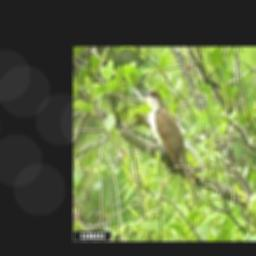Cuckoo: (143, 91, 198, 206)
